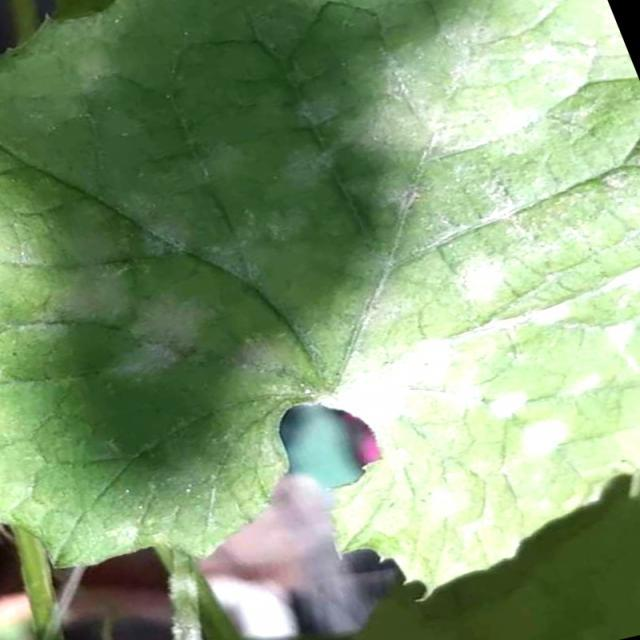Leaf_Mold: (8, 2, 640, 570)
